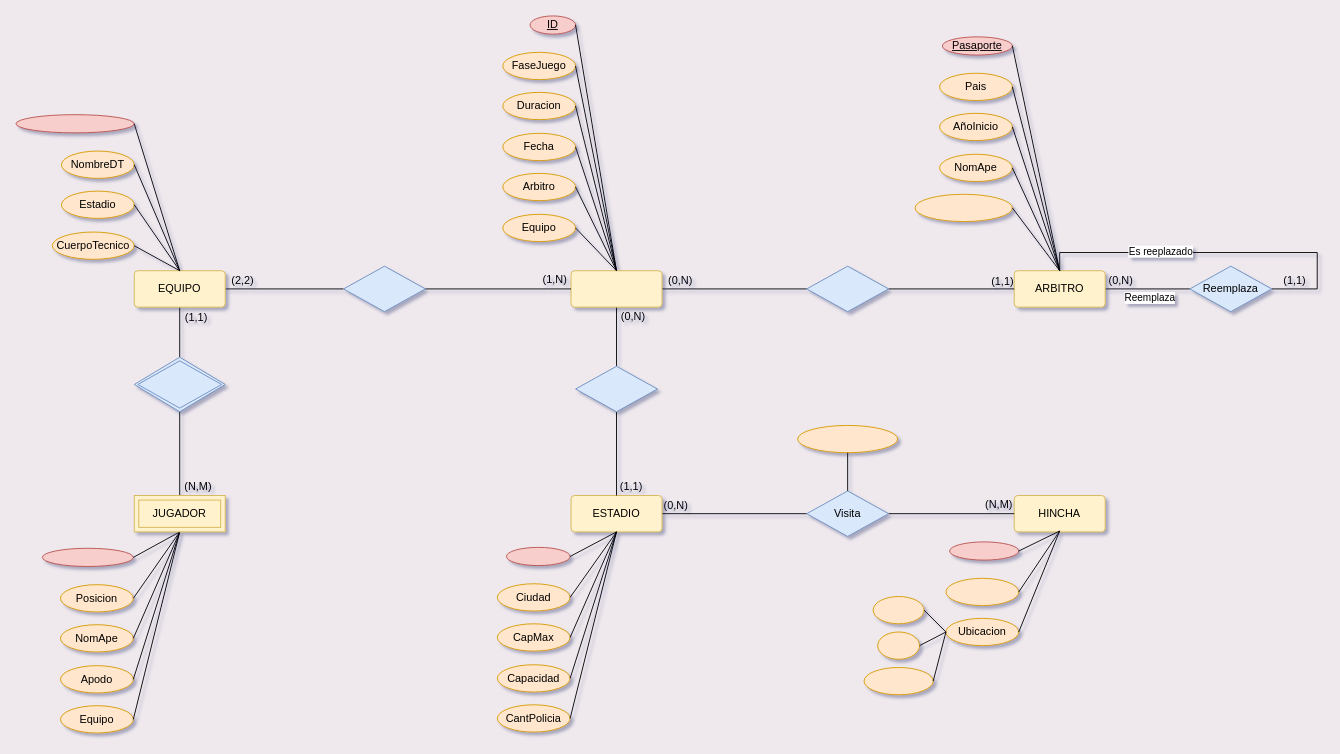
This 1340x754 diagram has some shape labels left out. The centre of each missing label's shape, as x and y in pixels:
"Arbitra" belongs at point (847, 288).
"ArbitroReemplaza" belongs at point (963, 207).
"Emplaza" belongs at point (616, 388).
"Fila" belongs at point (898, 645).
"Juega" belongs at point (384, 288).
"MedioTransporte" belongs at point (847, 439).
"Nombre" belongs at point (538, 556).
"NombreSeleccion" belongs at point (74, 123).
"NumAsiento" belongs at point (898, 681).
"NumCamiseta" belongs at point (87, 556).
"NumTicket" belongs at point (984, 550).
"PARTIDO" belongs at point (616, 288).
"Pertenece" belongs at point (179, 384).
"Vestimenta" belongs at point (982, 591).
"Zona" belongs at point (898, 610).
